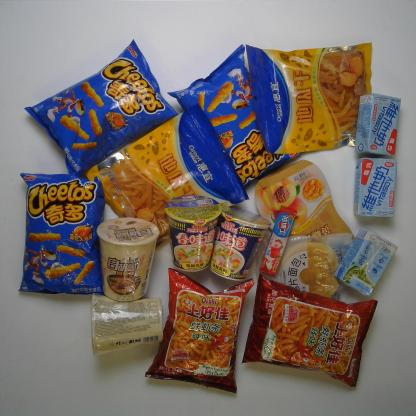Candy: (259, 206, 297, 278)
Dessert: (256, 233, 359, 312)
Dried Fruit: (84, 104, 249, 260), (245, 42, 378, 155), (256, 160, 361, 292)
Instant Noodles: (97, 217, 161, 302), (90, 292, 165, 358), (208, 206, 272, 282), (164, 195, 221, 272)
Milk: (334, 227, 398, 296), (354, 93, 402, 157), (354, 155, 398, 217)
Puffed Food: (24, 39, 179, 180), (168, 45, 310, 197), (240, 270, 381, 388), (141, 268, 256, 399), (17, 173, 106, 296)
